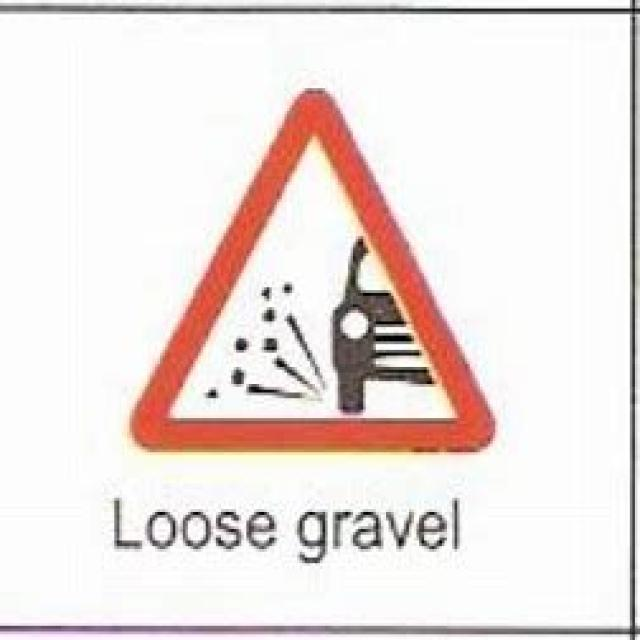LOOSE_GRAVEL: (127, 87, 498, 455)
